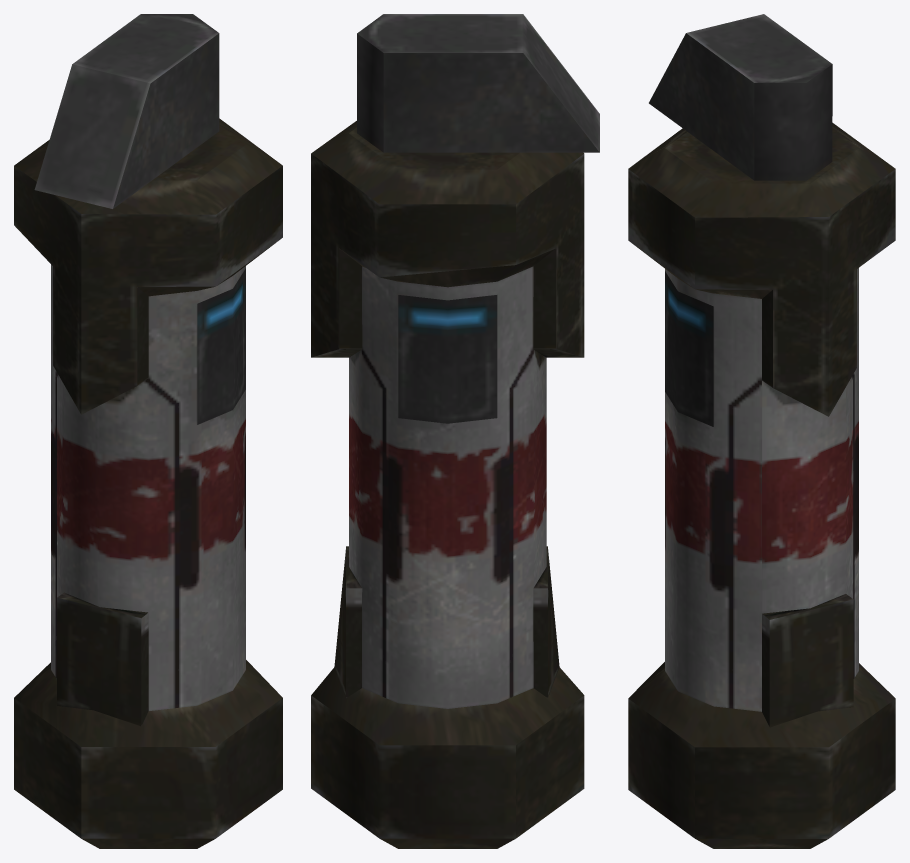
Rendered from t6_wpn_grenade_flashbang_projectile_LOD0.obj.
3 renders of one model, left to right at view 1: azimuth 30°, elevation 25°; view 2: azimuth 150°, elevation 25°; view 3: azimuth 270°, elevation 25°, orthographic. The views are drawn at different scales.
Parts seen in each view (by area): view 1: mtl_t6_wpn_grenade_flashbang; view 2: mtl_t6_wpn_grenade_flashbang; view 3: mtl_t6_wpn_grenade_flashbang.
Part boxes in pixels (left/top/right/bottom): mtl_t6_wpn_grenade_flashbang: left=14, top=14, right=282, bottom=848; mtl_t6_wpn_grenade_flashbang: left=311, top=14, right=599, bottom=848; mtl_t6_wpn_grenade_flashbang: left=628, top=14, right=895, bottom=848.
Bounding box in the file's own units: 7.02 × 22.1 × 7.02.
